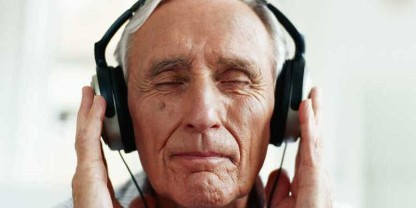闭眼: (213, 68, 252, 96), (151, 69, 186, 95)
